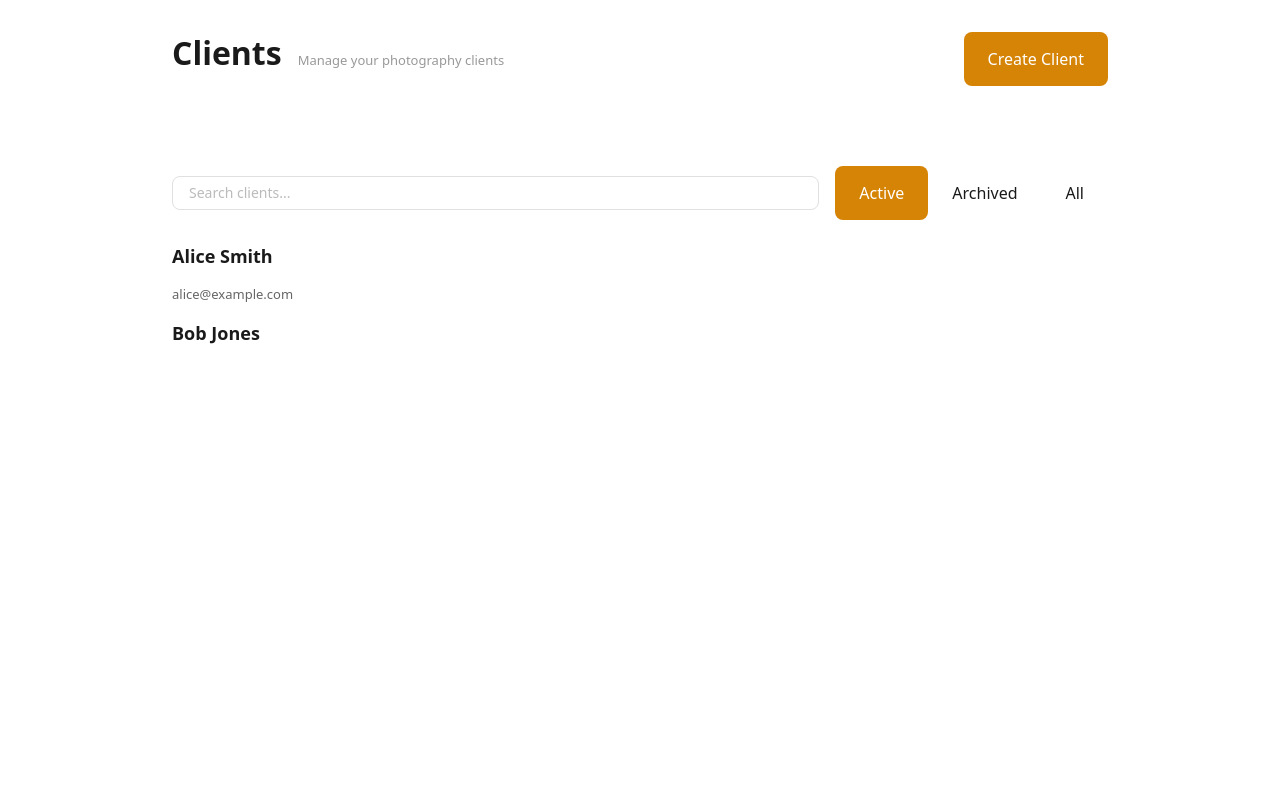
Test: Clients › opens create client dialog
Expected: the heading "Alice Smith" is shown, x1=172 y1=244 x2=273 y2=268
Click the button "Create Client" at [1036, 59], box x1=964 y1=32 x2=1108 y2=86
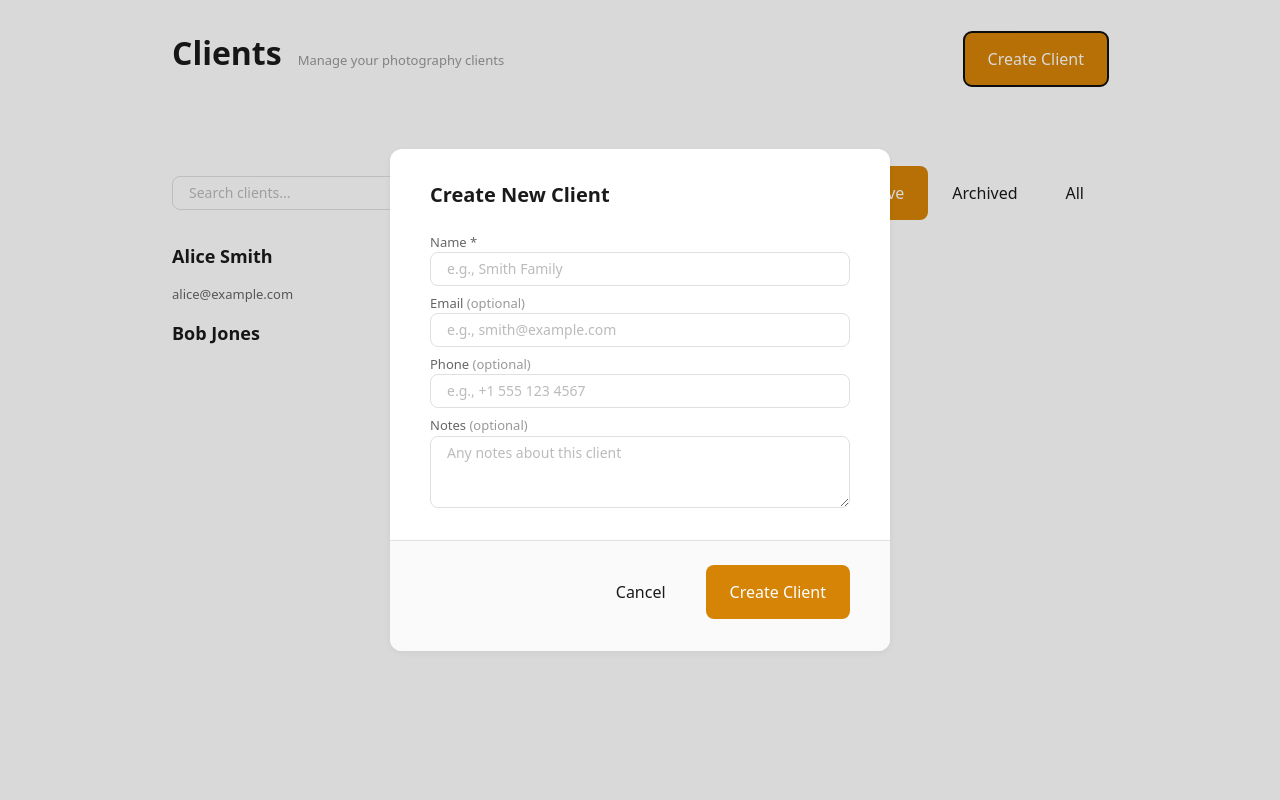
Now the heading "Create New Client" is shown, box x1=430 y1=181 x2=610 y2=208
